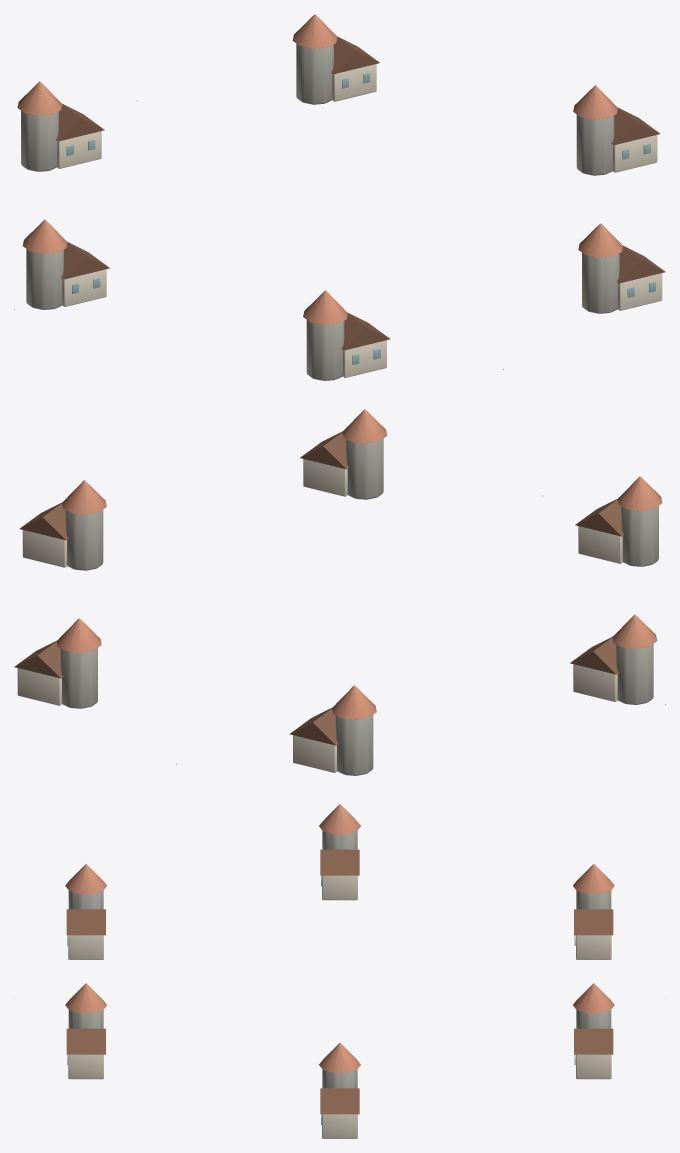
The model's file is backdrop-medieval.glb.
3 views of the same model, one above another, from view 1: azimuth 30°, elevation 25°; view 2: azimuth 150°, elevation 25°; view 3: azimuth 270°, elevation 25° (orthographic). The views are drawn at different scales.
Parts seen in each view (by area): view 1: backdrop-medieval; view 2: backdrop-medieval; view 3: backdrop-medieval.
Boxes of the visible parts, bbox=[...] form: backdrop-medieval: bbox=[14, 14, 665, 380]; backdrop-medieval: bbox=[14, 409, 665, 775]; backdrop-medieval: bbox=[14, 804, 665, 1138].
Bounding box in the file's own units: 40 × 5 × 40.
